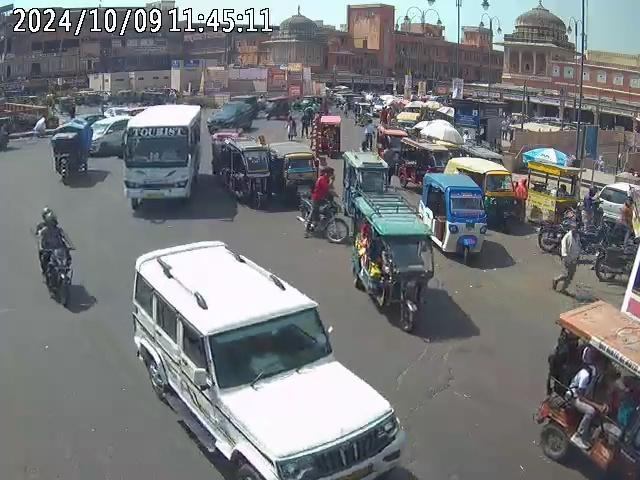auto: (534, 296, 639, 479), (352, 195, 434, 328), (418, 169, 488, 262), (215, 135, 272, 207), (48, 119, 93, 185), (270, 141, 319, 200), (340, 150, 389, 195), (311, 112, 343, 157)
bus: (121, 102, 205, 210)
car: (126, 238, 411, 479), (91, 114, 131, 155), (207, 100, 256, 133)
helmet: (46, 212, 58, 228), (41, 207, 52, 218)
motorbike-rider: (33, 208, 76, 307), (296, 165, 345, 243)
